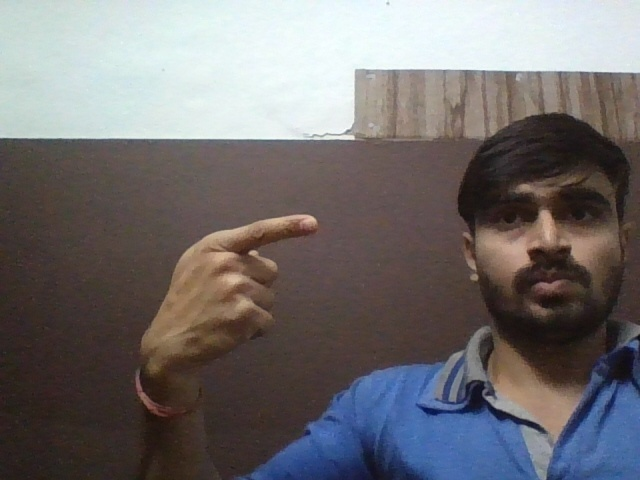G: (157, 214, 332, 350)
